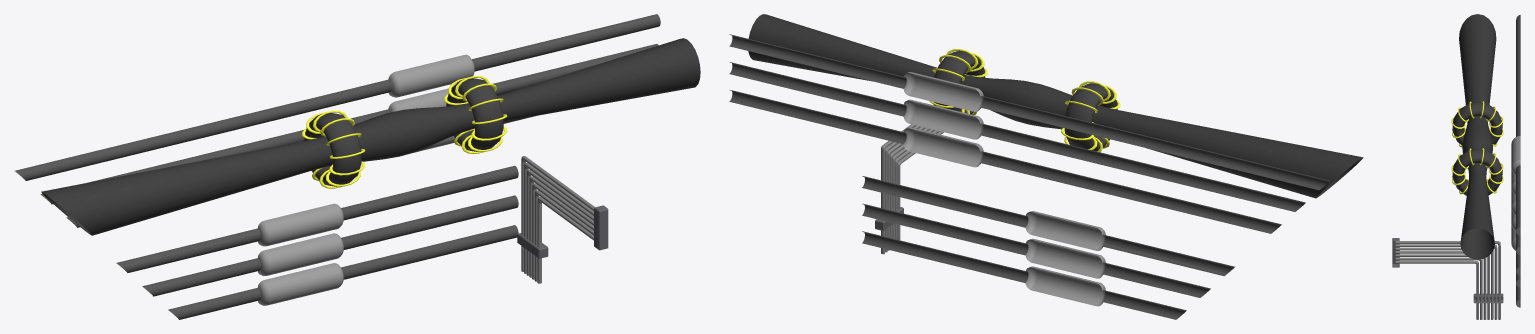
File: Engineering_Pipes.fbx
3 renders of one model, left to right at view 1: azimuth 30°, elevation 25°; view 2: azimuth 150°, elevation 25°; view 3: azimuth 270°, elevation 25°, orthographic. The views are drawn at different scales.
Visible parts, largest first — view 1: Engineering_Pipes; view 2: Engineering_Pipes; view 3: Engineering_Pipes.
Part boxes in pixels (bbox=[...]): Engineering_Pipes: bbox=[14, 14, 700, 319]; Engineering_Pipes: bbox=[729, 14, 1363, 319]; Engineering_Pipes: bbox=[1392, 14, 1520, 319].
Size of the model in its own units: 6912 by 2241 by 1762.
